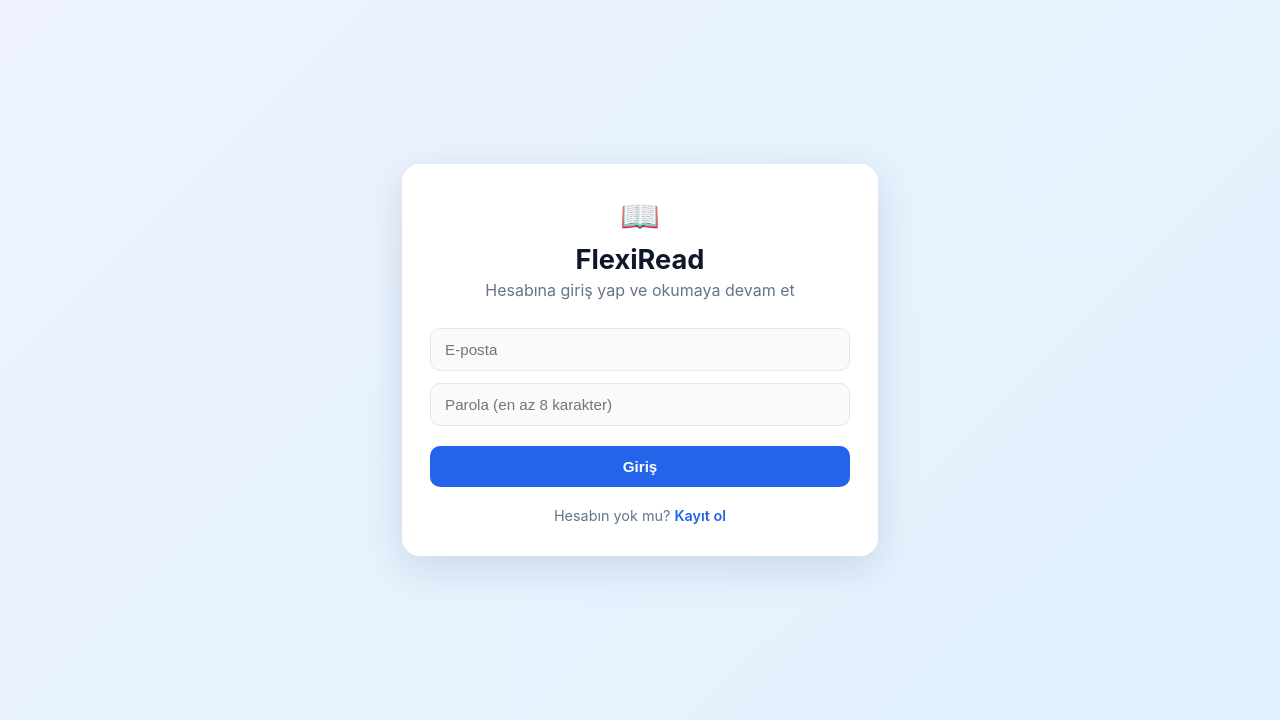
App auth flow › logs in and moves to the library on success
The image size is (1280, 720).
In the field with placeholder "E-posta": x=640, y=350 x1=430 y1=328 x2=850 y2=371, type "user@example.com"
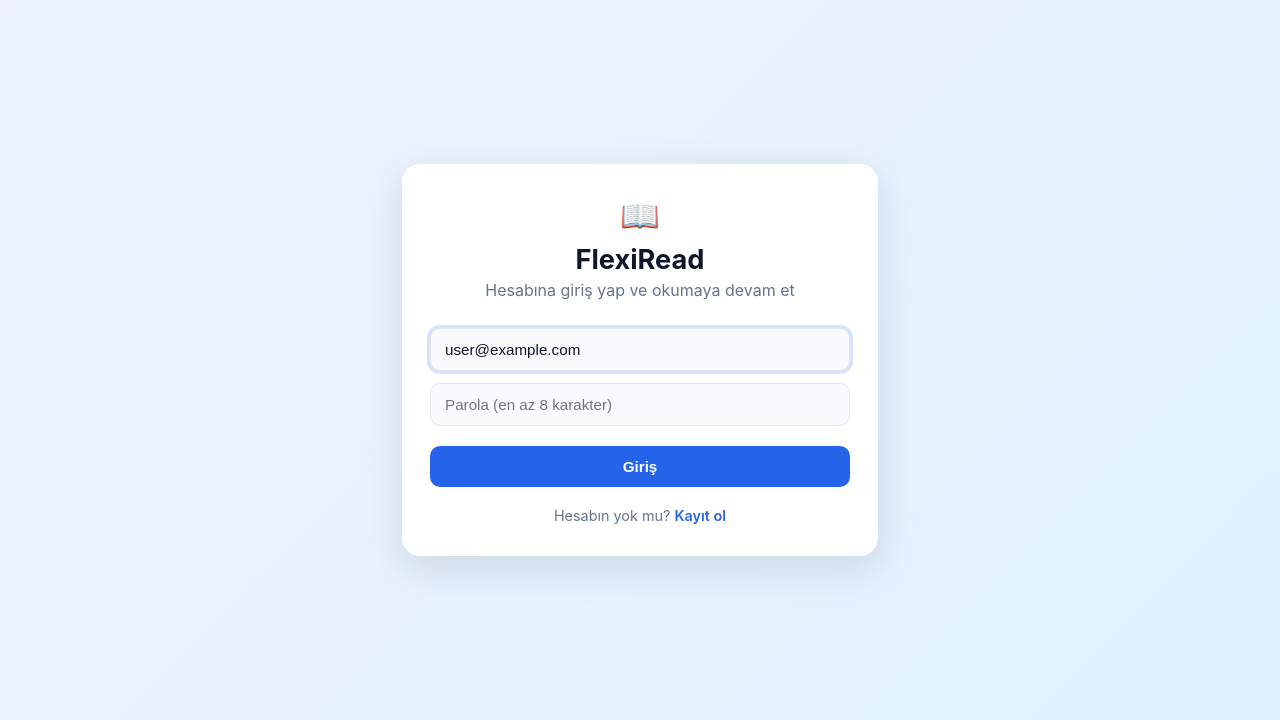
In the password field with placeholder "Parola (en az 8 karakter)": x=640, y=404 x1=430 y1=383 x2=850 y2=426, type "password123"
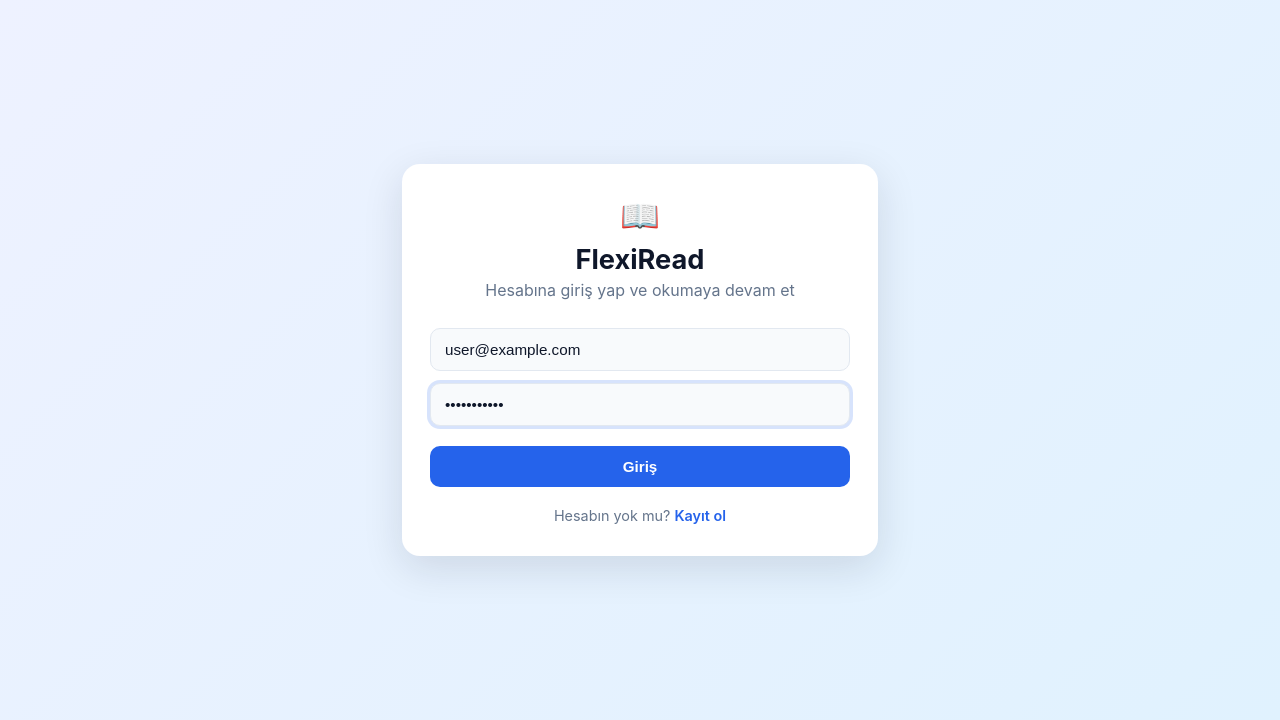
Click the button "Giriş": x=640, y=466 x1=430 y1=446 x2=850 y2=487
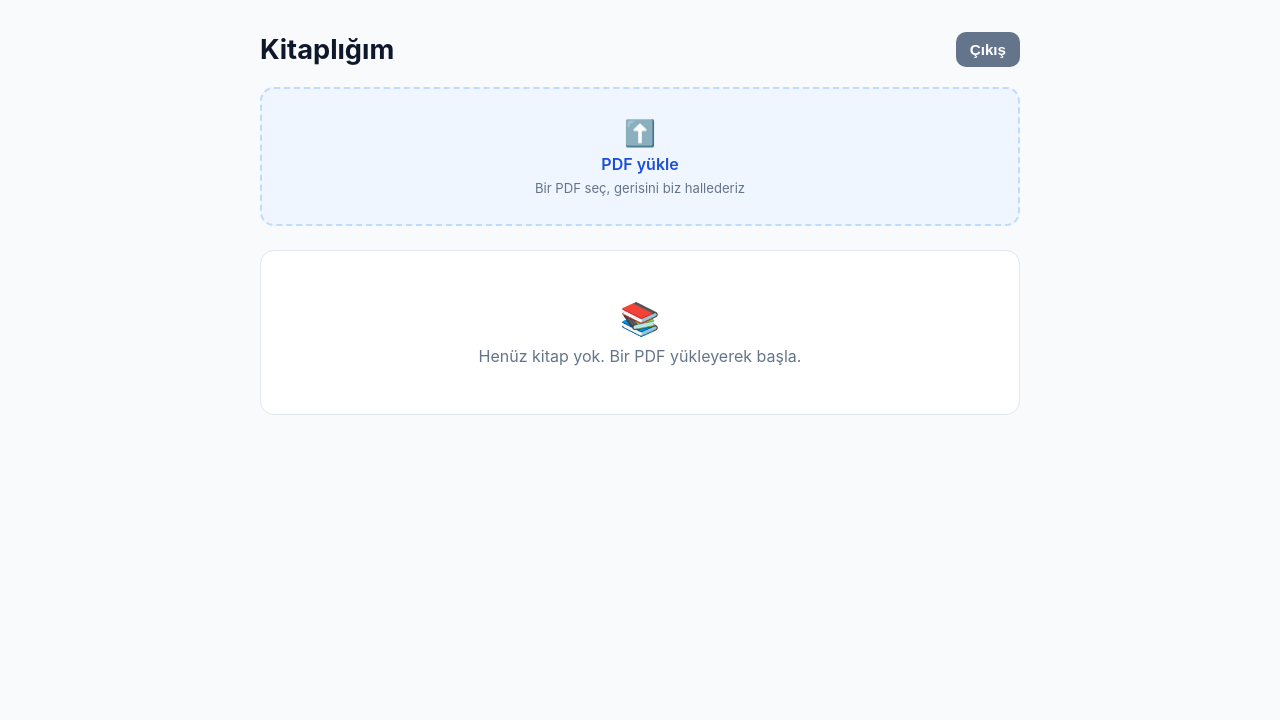
Check: the heading "Kitaplığım" is shown, box x1=260 y1=33 x2=394 y2=66
